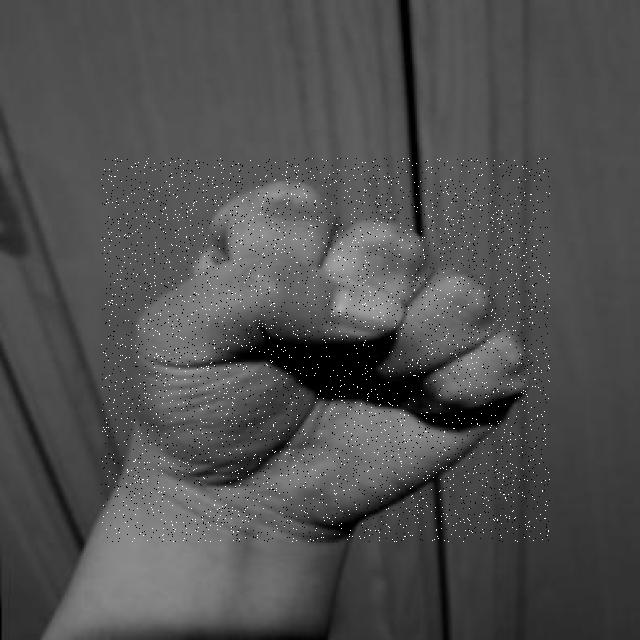S: (101, 158, 550, 542)
